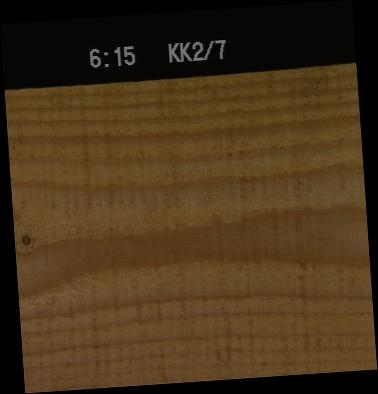dry_knot: (18, 231, 32, 246)
